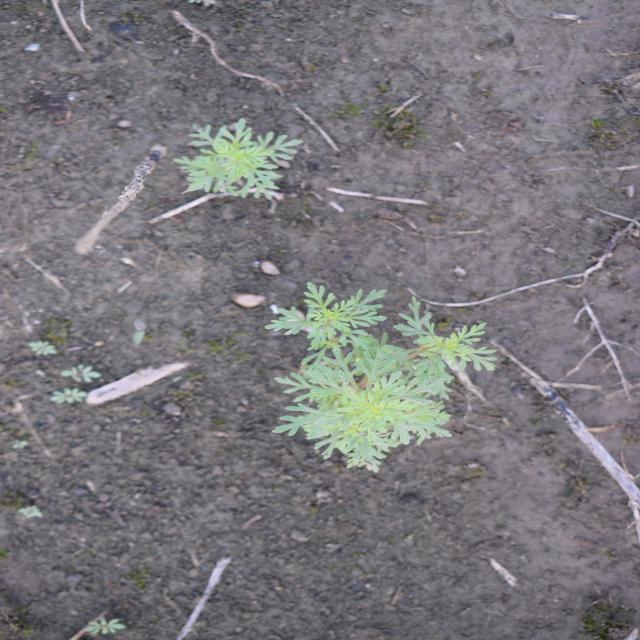Ragweed: (263, 280, 499, 474), (172, 117, 310, 203)
